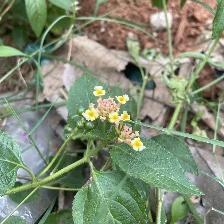common lanthana: (84, 81, 154, 165)
